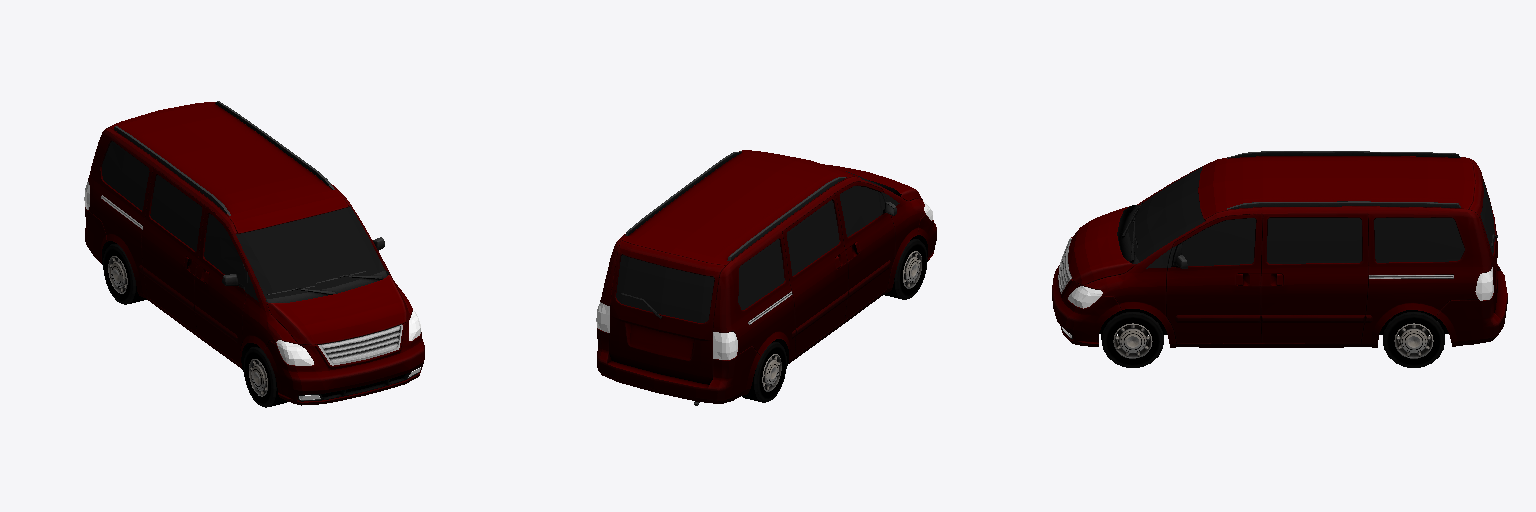
The picture shows the model from 3 angles: view 1: azimuth 30°, elevation 25°; view 2: azimuth 150°, elevation 25°; view 3: azimuth 270°, elevation 25°; orthographic projection.
Parts seen in each view (by area): view 1: minivan_body_Mesh.026, Wheel_D002_Mesh.028, Wheel_D003_Mesh.029; view 2: minivan_body_Mesh.026, Wheel_D003_Mesh.029, Wheel_D002_Mesh.028; view 3: minivan_body_Mesh.026, Wheel_D_Mesh.025, Wheel_D001_Mesh.027.
Boxes of the visible parts, x1=… form: minivan_body_Mesh.026: x1=84, y1=101, x2=424, y2=405; Wheel_D002_Mesh.028: x1=244, y1=346, x2=287, y2=407; Wheel_D003_Mesh.029: x1=103, y1=243, x2=146, y2=304; minivan_body_Mesh.026: x1=596, y1=150, x2=936, y2=405; Wheel_D003_Mesh.029: x1=742, y1=341, x2=786, y2=402; Wheel_D002_Mesh.028: x1=884, y1=238, x2=927, y2=299; minivan_body_Mesh.026: x1=1052, y1=151, x2=1507, y2=347; Wheel_D_Mesh.025: x1=1101, y1=309, x2=1163, y2=367; Wheel_D001_Mesh.027: x1=1383, y1=310, x2=1444, y2=367.
Bounding box in the file's own units: 2.1 × 1.98 × 5.19.
4 materials, 2 textured.